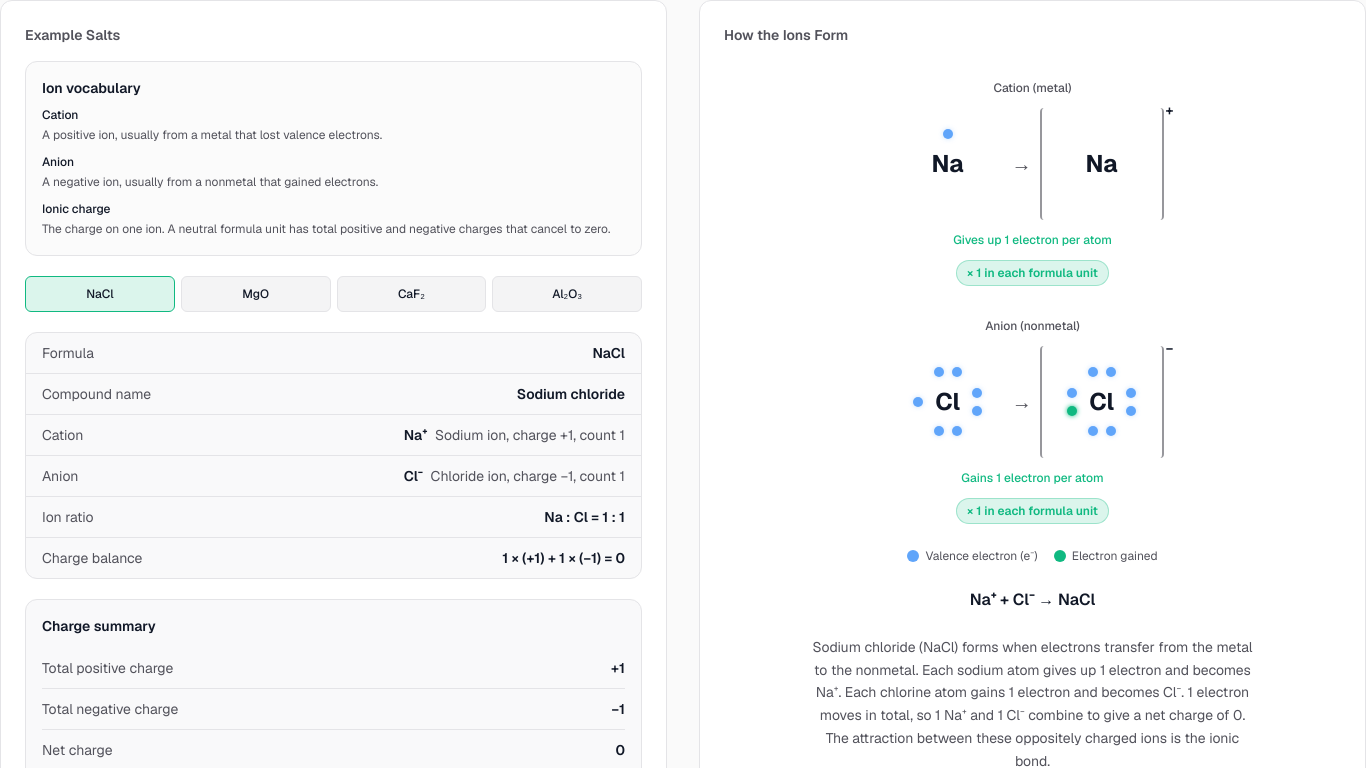
Test: IonicCompoundExplorer › shows matching details for Aluminum oxide
Click the button with aria-label "Aluminum oxide, Al2O3": {"x": 567, "y": 294} [492,276,642,312]
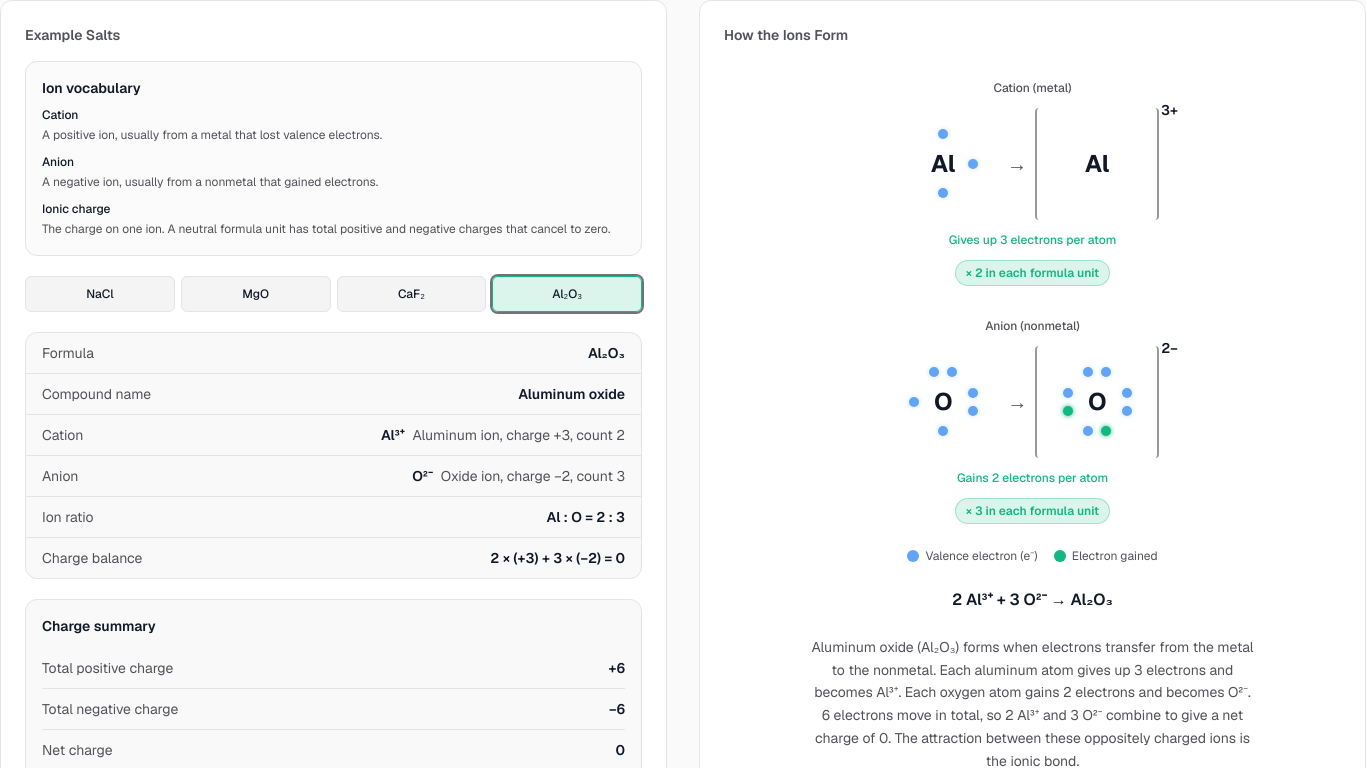
Expected: the text "0" is shown, [615,740,625,760]
Expected: the text "Aluminum oxide" is shown, [518,384,625,404]
Expected: the text "Al : O = 2 : 3" is shown, [547,507,625,527]
